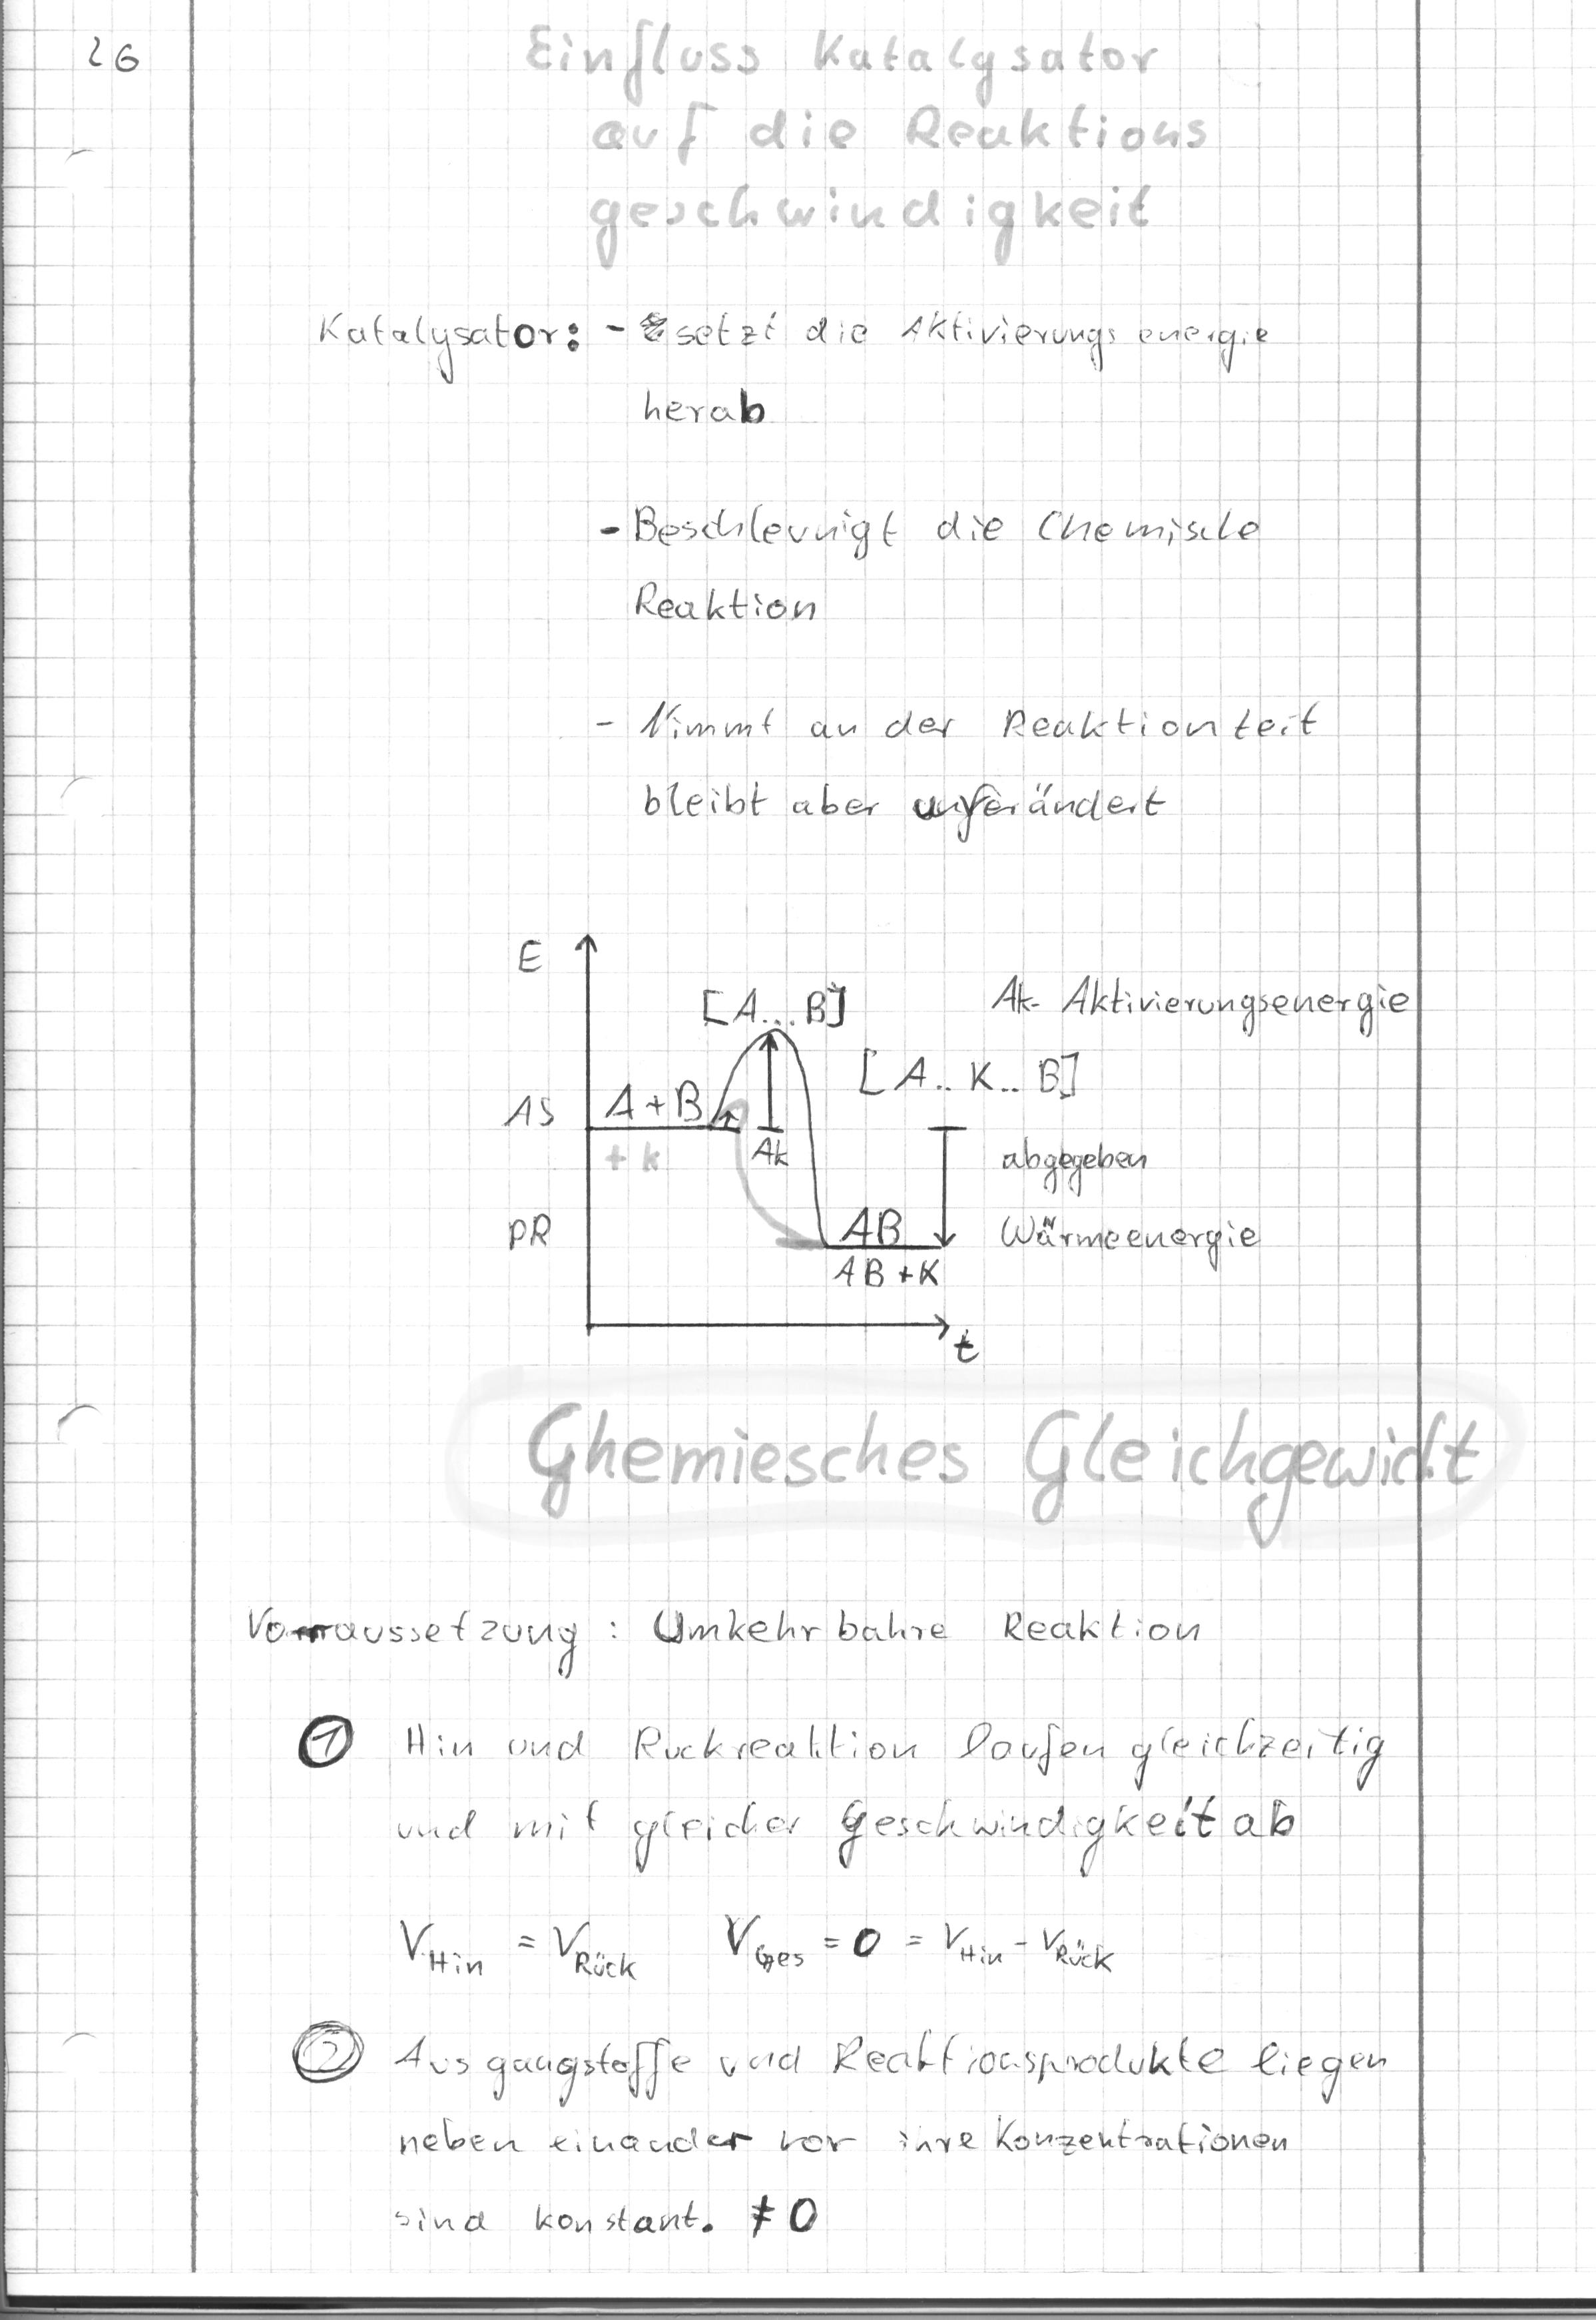word: (382, 2022, 1390, 2110), (239, 1595, 1203, 1685), (387, 1797, 1298, 1889), (398, 1714, 1391, 1794), (389, 1904, 1132, 1994), (392, 2110, 1304, 2171), (585, 689, 1338, 752), (592, 494, 1268, 565), (629, 769, 1182, 850), (960, 960, 1417, 1045), (894, 298, 1284, 383), (382, 2182, 824, 2245), (991, 1205, 1282, 1289), (315, 307, 588, 390), (615, 570, 837, 636), (989, 1127, 1161, 1201), (673, 304, 887, 358), (633, 380, 788, 436)
